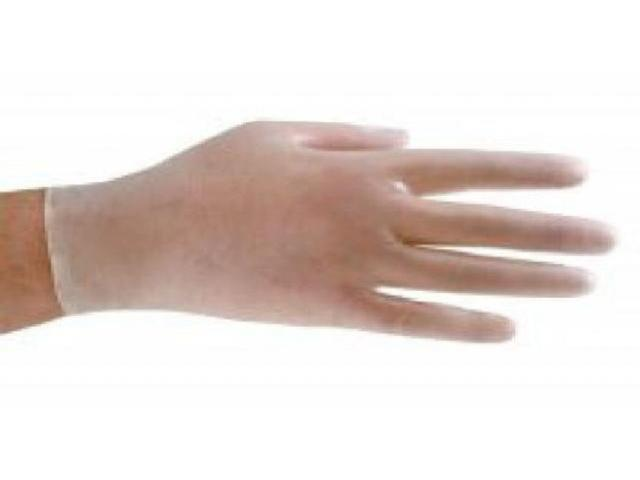Hand-in-Glove: (42, 110, 614, 344)
